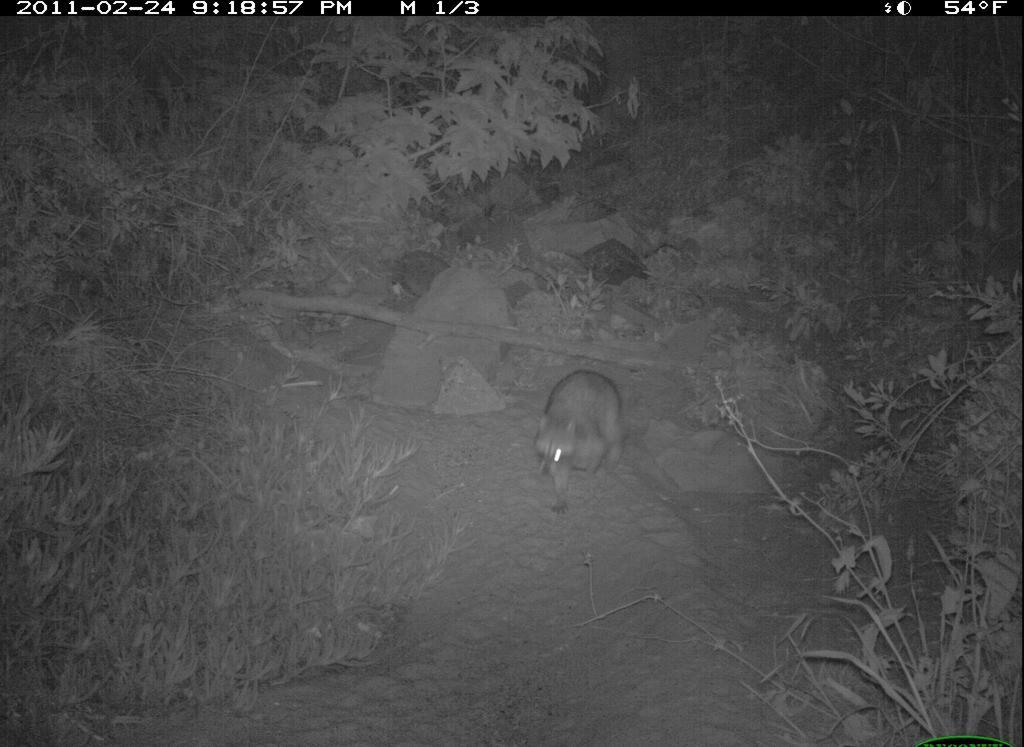raccoon: (532, 369, 638, 514)
